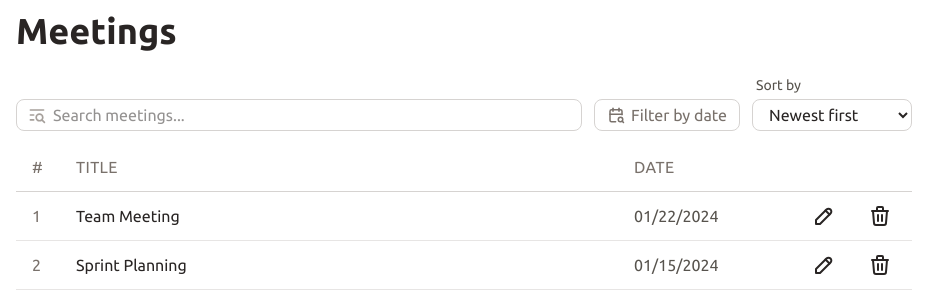
Meeting Edit › cancelling edit restores the original title
Click the button named "Edit" next to "01/22/2024" at (824, 216), box [808,200,840,232]
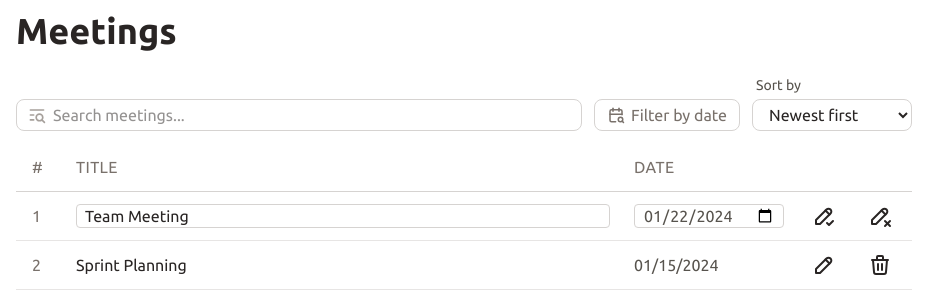
Replace the text in the field showing "Team Meeting" with "Changed Title" at (343, 216), box [76,204,610,228]
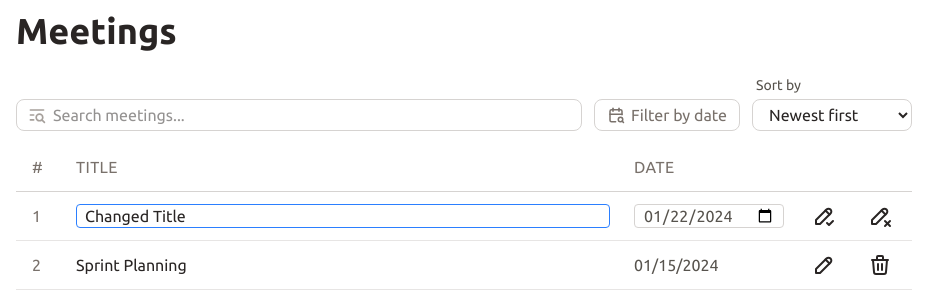
Click the button named "Cancel" at (880, 216), box [864,200,896,232]
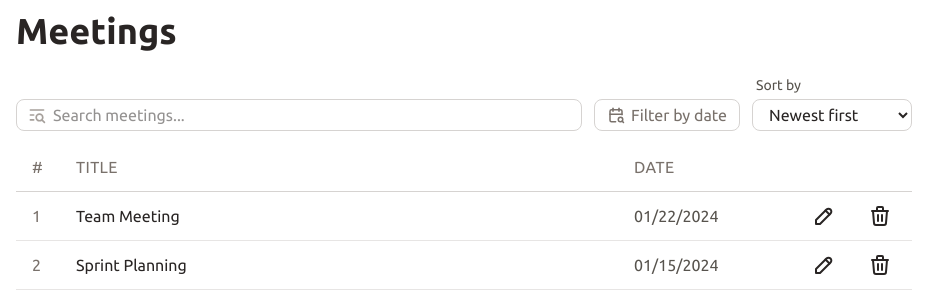
Expected: the field showing "Changed Title" is not shown
Result: the link "Team Meeting" is shown at [76,207,180,225]
